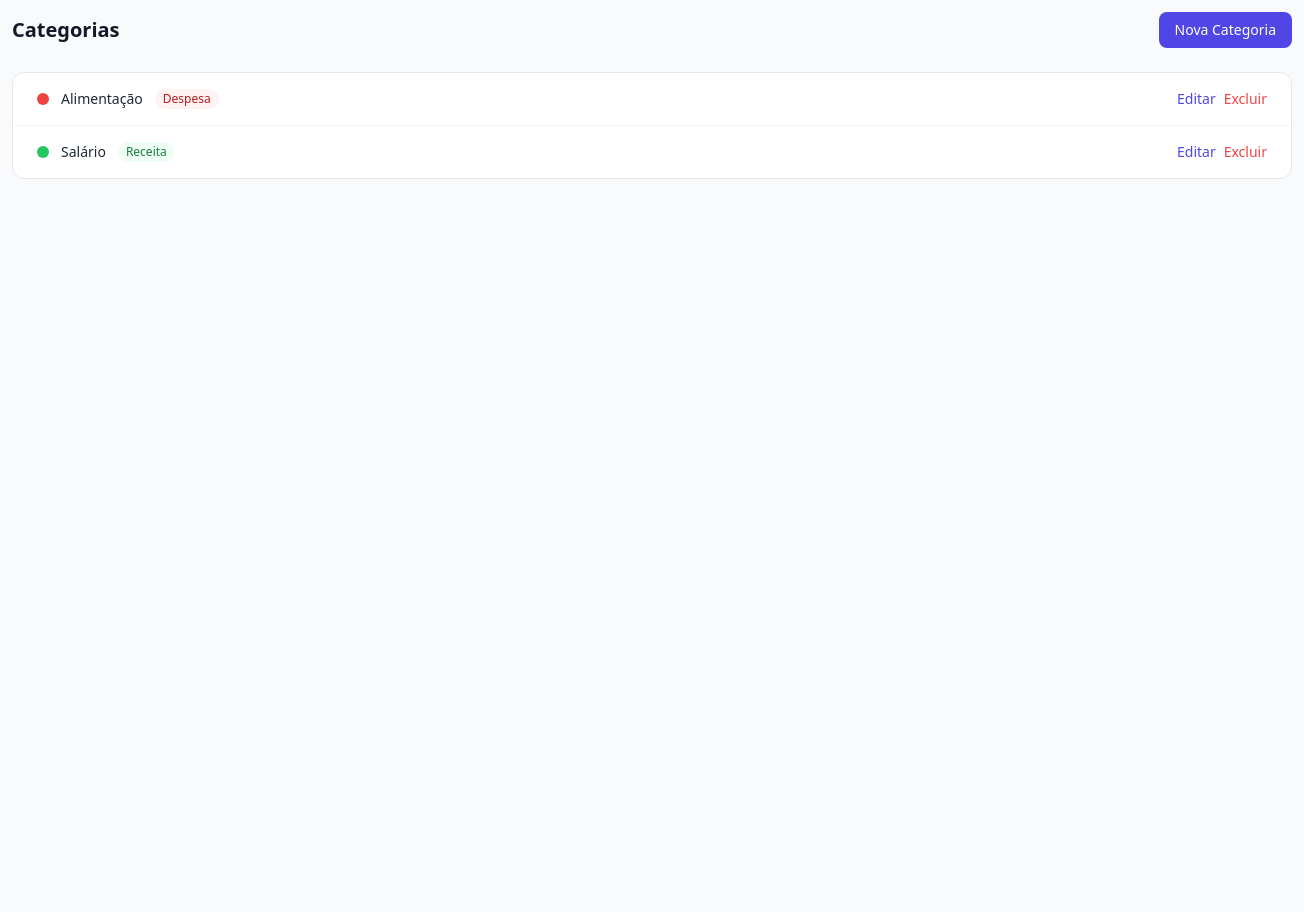
it: Categories page › shows toast error when delete is blocked because category has transactions
Expected: the text "Alimentação" is shown, [61,89,143,109]
// click Excluir → shows inline confirm
Click the button "Excluir" in the row of "Despesa" at [1245, 99], box [1224,89,1267,109]
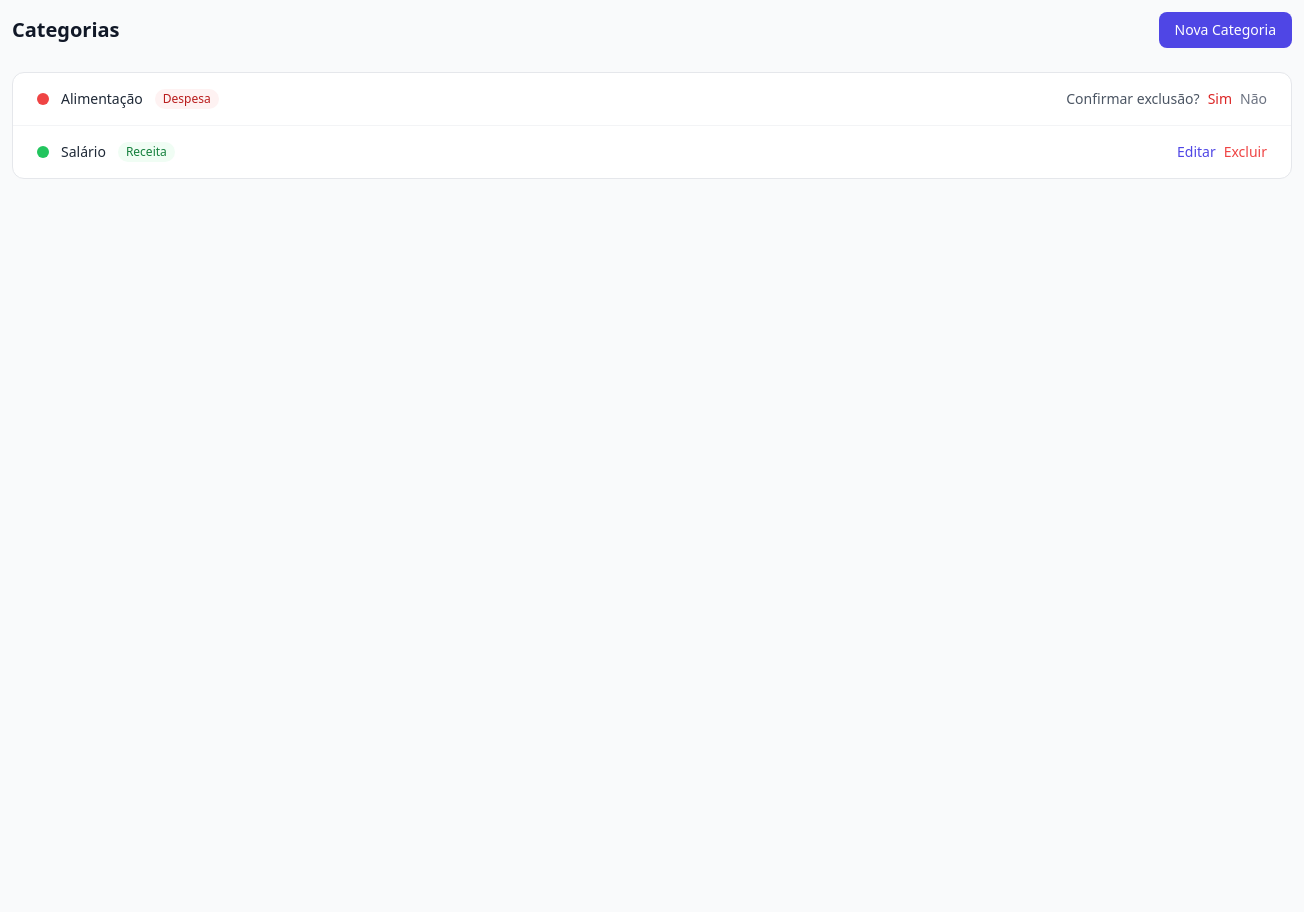
// click Sim to confirm
Click the button "Sim" at [1220, 99], box [1208,89,1232,109]
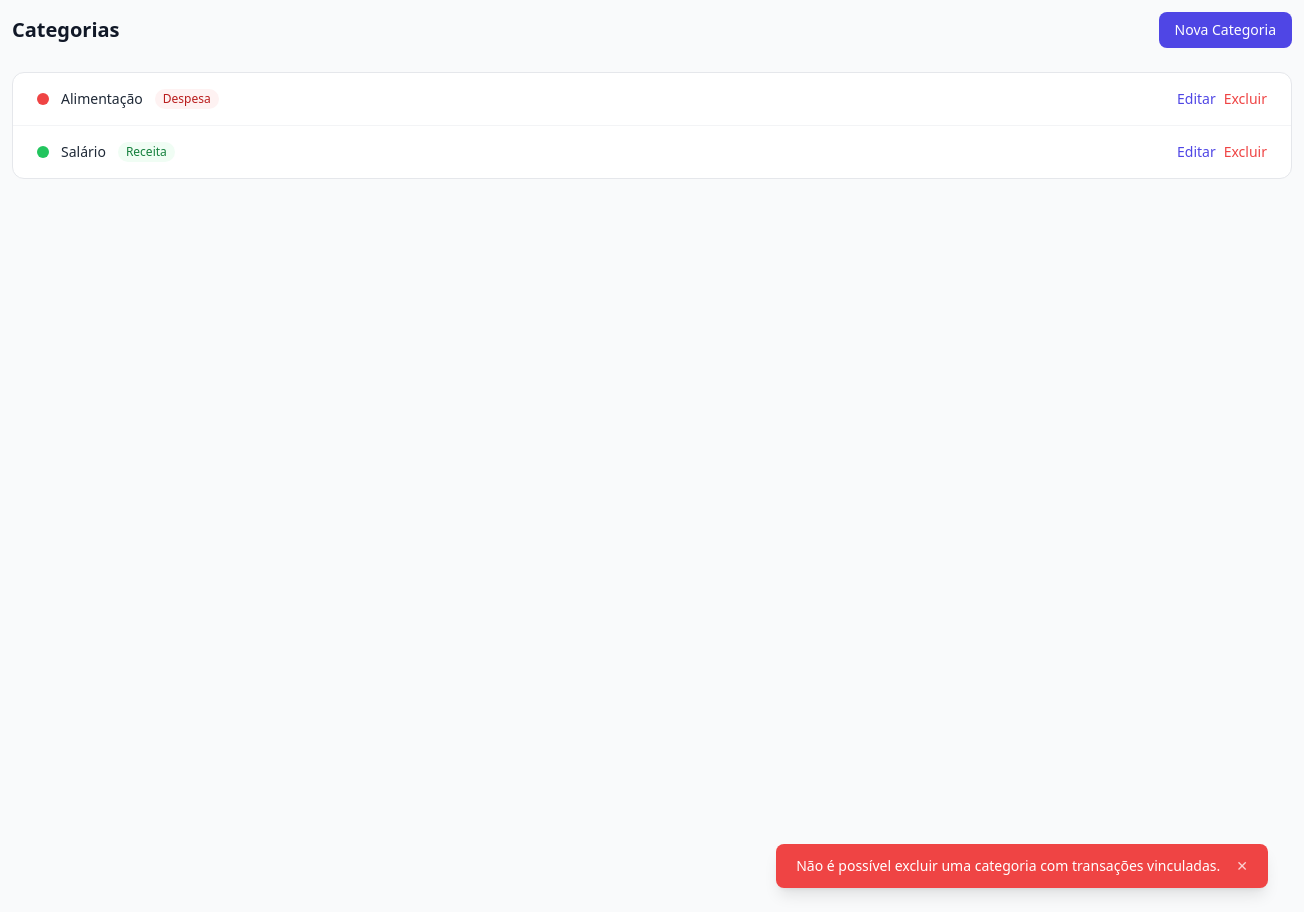
Result: the text "Não é possível excluir" is shown at [796,856,1220,875]
